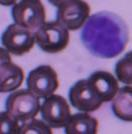L: (78, 11, 128, 58)
